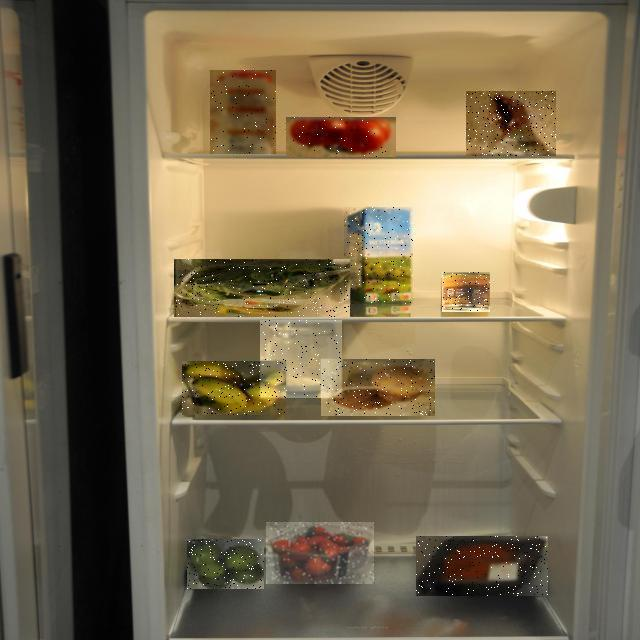banana: (39, 208, 325, 622)
milk: (138, 152, 550, 456)
potato: (104, 208, 538, 624)
